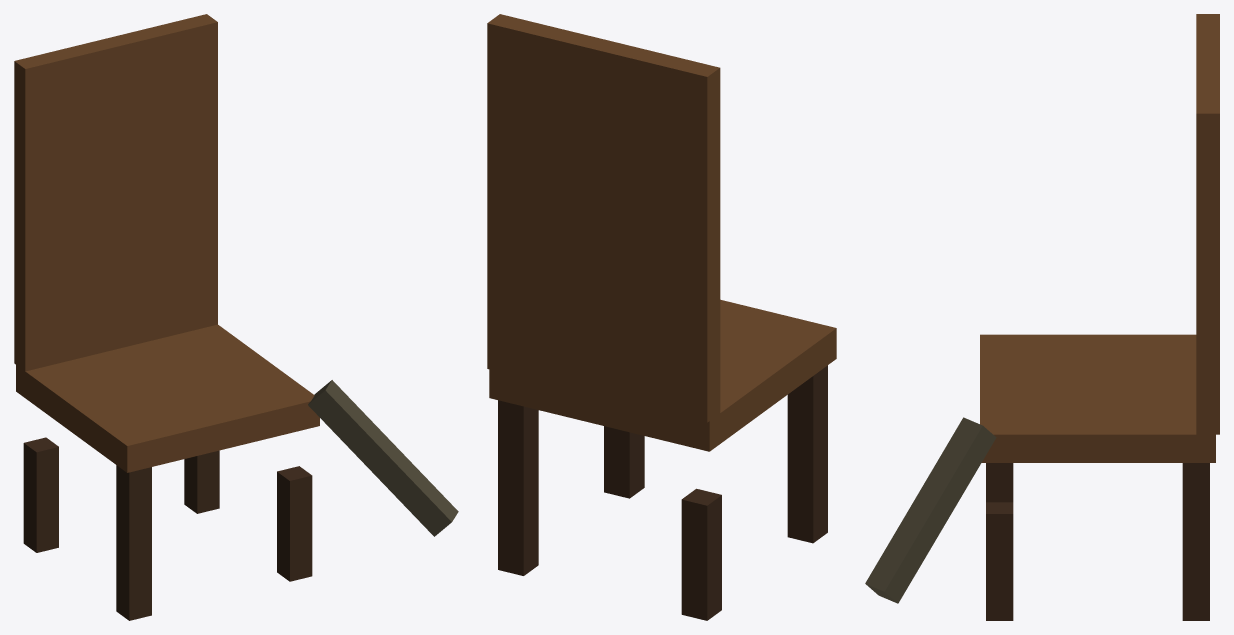
The model's file is chair_broken.fbx.
3 views of the same model, side by side, from view 1: azimuth 30°, elevation 25°; view 2: azimuth 150°, elevation 25°; view 3: azimuth 270°, elevation 25° (orthographic). The views are drawn at different scales.
Parts seen in each view (by area): view 1: chair_broken; view 2: chair_broken; view 3: chair_broken.
Part boxes in pixels (x1,y1,x2,y2): chair_broken: (14, 14, 458, 620); chair_broken: (487, 14, 836, 620); chair_broken: (865, 14, 1219, 620).
Size of the model in its own units: 0.8922 by 1.43 by 0.9022.
